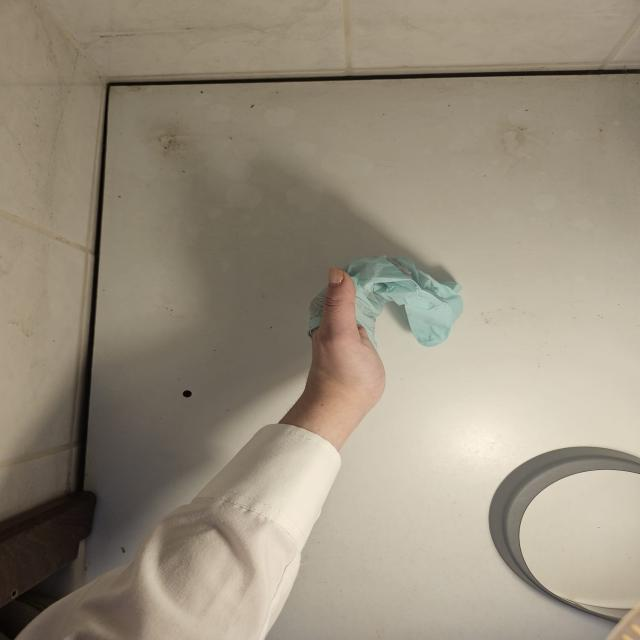glove_partial: (305, 252, 466, 393)
